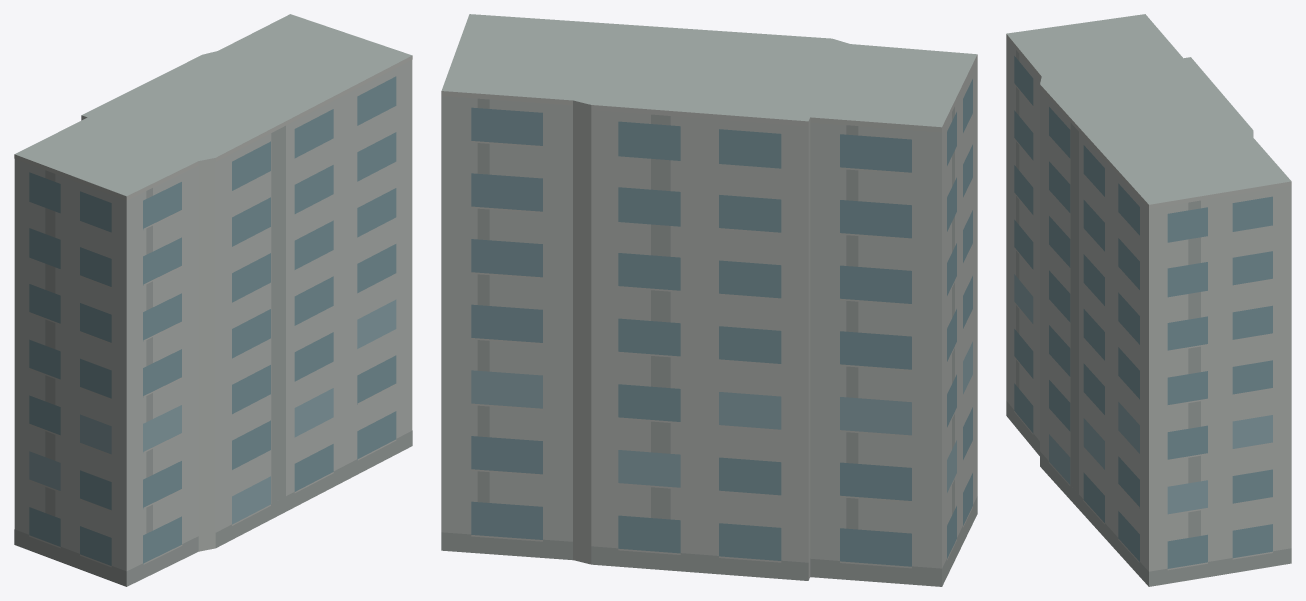
Rendered from survey-upis-32765764.glb.
3 views of the same model, side by side, from view 1: azimuth 30°, elevation 25°; view 2: azimuth 150°, elevation 25°; view 3: azimuth 270°, elevation 25° (orthographic). The views are drawn at different scales.
Visible parts, largest first — view 1: survey-upis-32765764.tmp; view 2: survey-upis-32765764.tmp; view 3: survey-upis-32765764.tmp.
Part boxes in pixels (x1,y1,x2,y2): survey-upis-32765764.tmp: (14,14,412,586); survey-upis-32765764.tmp: (441,14,977,586); survey-upis-32765764.tmp: (1006,14,1291,586).
Bounding box in the file's own units: 23.63 × 22.05 × 14.94.
